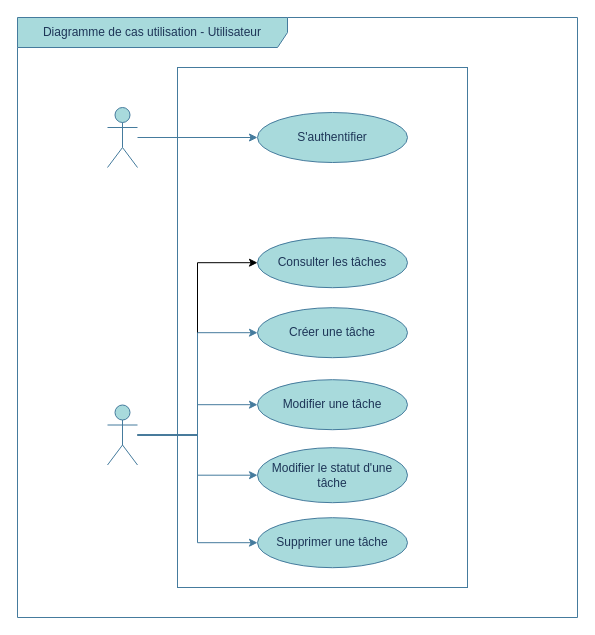
This 595x635 diagram has some shape labels left out. Here are the shapes that lost their labels. From the top down, the centre of each, then its label:
At point 122,137: "Utilisateur anonyme".
At point 122,434: "Utilisateur connecté".
